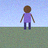person: (20, 6, 34, 29)
